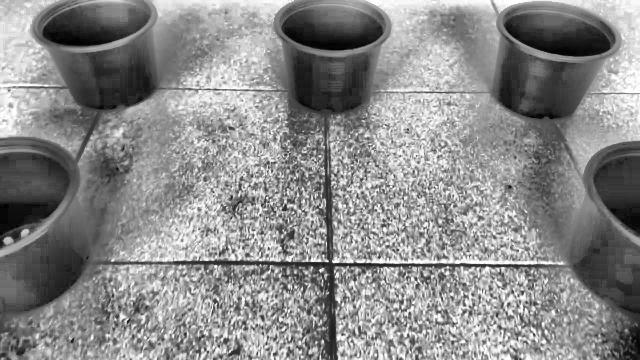pot: (0, 138, 91, 317), (492, 1, 623, 120), (32, 0, 159, 112), (274, 0, 392, 114), (568, 141, 640, 316)
